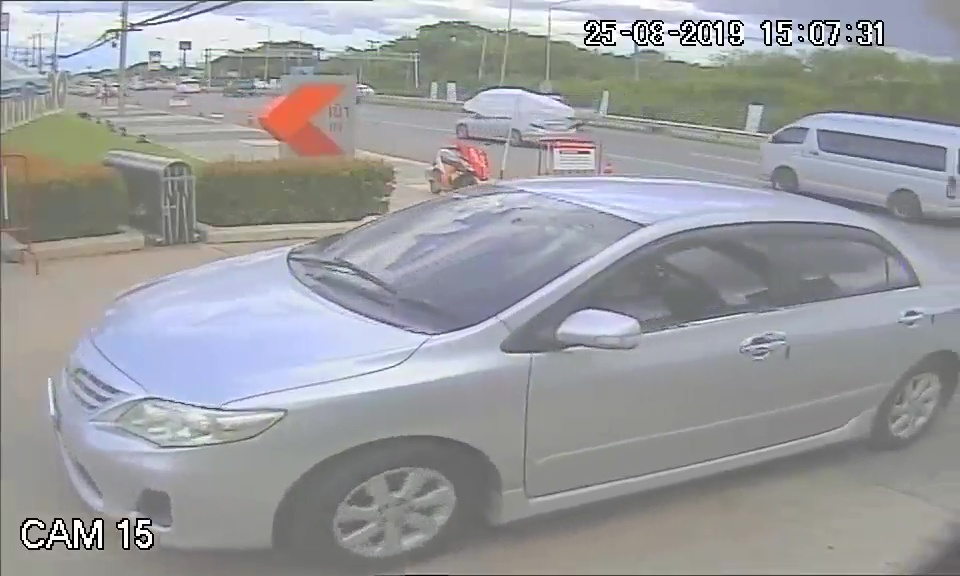sedan: (45, 177, 806, 561)
